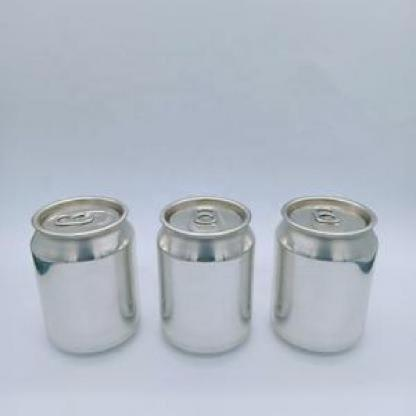Can: (268, 187, 392, 363), (26, 187, 144, 361), (148, 189, 264, 361)
